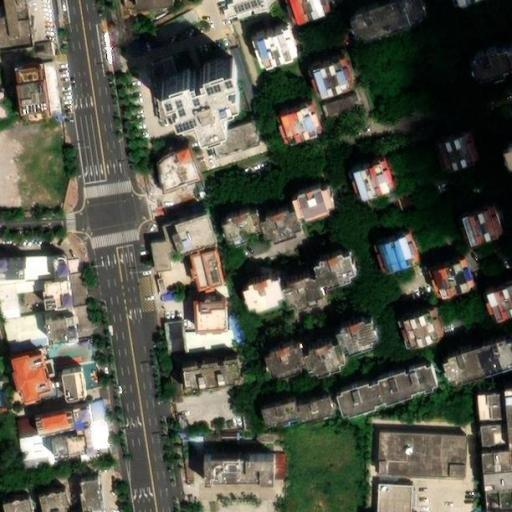building: (160, 50, 238, 127), (344, 356, 444, 410), (376, 433, 469, 481), (367, 0, 437, 44), (449, 335, 512, 382), (0, 263, 63, 308), (295, 448, 359, 488), (20, 353, 64, 404), (160, 147, 204, 193), (265, 389, 333, 418), (173, 213, 219, 255), (203, 455, 274, 480), (281, 487, 352, 512), (192, 354, 246, 386), (293, 116, 335, 156), (460, 205, 502, 245), (248, 36, 289, 76), (437, 130, 478, 170), (355, 154, 397, 193), (5, 307, 50, 343), (318, 57, 359, 96), (383, 233, 424, 272), (431, 258, 472, 297), (404, 305, 445, 344), (311, 0, 353, 38), (188, 262, 225, 305), (154, 59, 178, 120), (319, 247, 359, 282), (303, 179, 343, 213), (343, 306, 383, 340), (247, 273, 286, 305), (284, 264, 323, 296), (234, 213, 273, 245), (274, 340, 313, 372), (272, 203, 311, 234), (312, 330, 351, 361), (193, 304, 226, 338), (221, 0, 258, 30), (50, 280, 82, 312), (483, 49, 512, 84), (22, 84, 54, 115), (163, 207, 208, 229), (219, 498, 281, 512), (44, 412, 82, 434), (90, 404, 112, 442), (491, 281, 512, 318), (88, 479, 111, 512), (0, 488, 31, 512), (21, 438, 48, 464), (62, 365, 85, 395), (486, 394, 512, 420), (52, 322, 80, 345), (165, 321, 185, 353), (4, 263, 34, 284), (40, 490, 68, 512), (390, 186, 414, 211), (152, 244, 171, 275), (0, 87, 24, 111), (488, 423, 512, 446), (153, 271, 178, 293), (492, 452, 512, 474), (15, 418, 37, 438), (21, 71, 46, 87), (494, 471, 512, 490), (82, 447, 102, 464), (61, 263, 78, 282), (68, 452, 85, 470), (220, 435, 241, 446), (100, 439, 111, 460), (128, 0, 141, 15), (14, 344, 31, 354), (165, 226, 178, 238), (131, 45, 143, 58), (190, 440, 203, 450), (276, 438, 285, 451), (179, 417, 187, 430), (103, 458, 113, 468), (156, 292, 164, 298), (197, 509, 202, 512)
